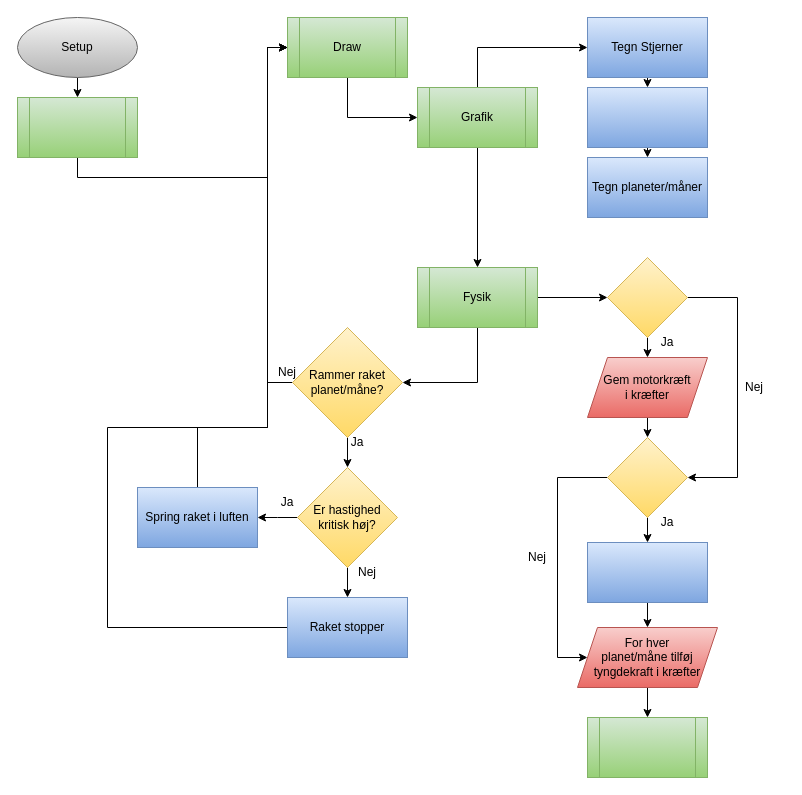
Image size: 802x795. Some labels were removed from this diagram. Each missing label, with the centre of its shape:
Drejer?: point (647, 477)
Håndter værdier: point (77, 127)
Kører motor?: point (647, 297)
Påvirk raket med alle kræfter i kræfter: point (647, 747)
Roter raket: point (647, 572)
Tegn raket: point (647, 117)
